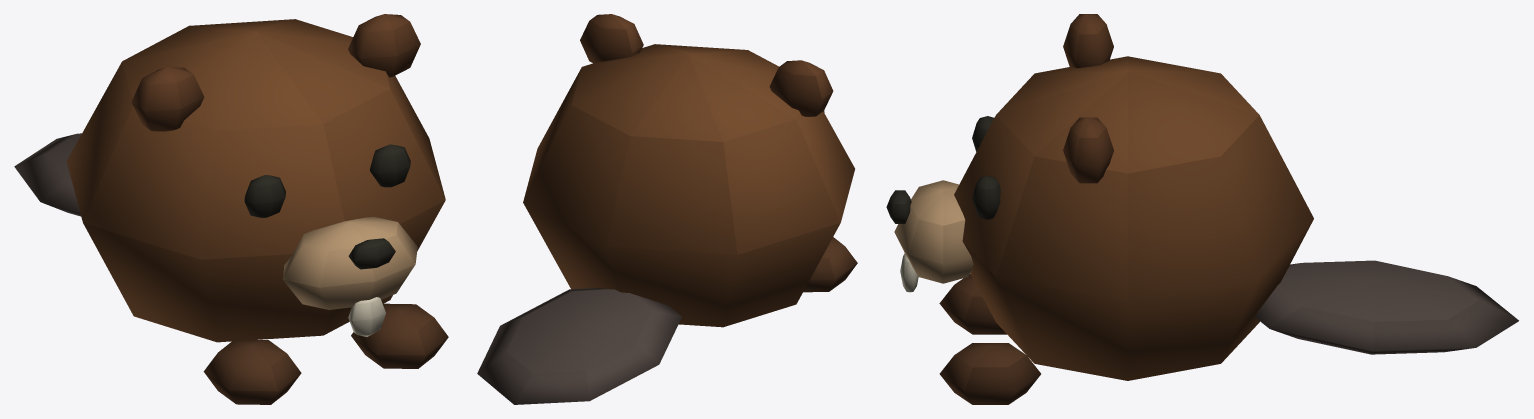
File: Beaver.glb
The picture shows the model from 3 angles, left to right: view 1: azimuth 30°, elevation 25°; view 2: azimuth 150°, elevation 25°; view 3: azimuth 270°, elevation 25°; orthographic projection. The views are drawn at different scales.
Parts seen in each view (by area): view 1: Beaver; view 2: Beaver; view 3: Beaver.
Boxes of the visible parts, left/top/right/bottom form: Beaver: left=14, top=14, right=448, bottom=404; Beaver: left=477, top=14, right=857, bottom=404; Beaver: left=886, top=14, right=1518, bottom=404.
Size of the model in its own units: 0.4 by 0.336 by 0.6453.
